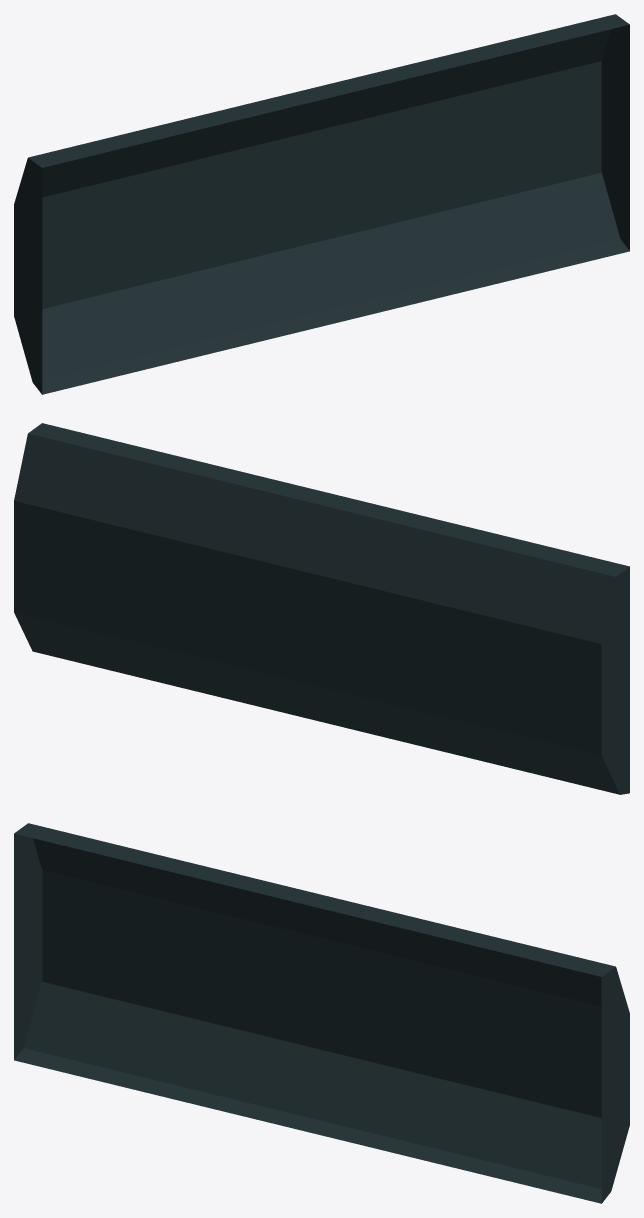
The model's file is SM_light_simple.fbx.
The picture shows the model from 3 angles, top to bottom: view 1: azimuth 30°, elevation 25°; view 2: azimuth 150°, elevation 25°; view 3: azimuth 330°, elevation 25°; orthographic projection.
Parts seen in each view (by area): view 1: SM_light_simple; view 2: SM_light_simple; view 3: SM_light_simple.
Boxes of the visible parts, x1,y1,x2,y2 form: SM_light_simple: [14, 14, 629, 394]; SM_light_simple: [14, 423, 629, 794]; SM_light_simple: [14, 823, 629, 1203].
Size of the model in its own units: 300 by 111 by 24.91.
1 material, 1 textured.
